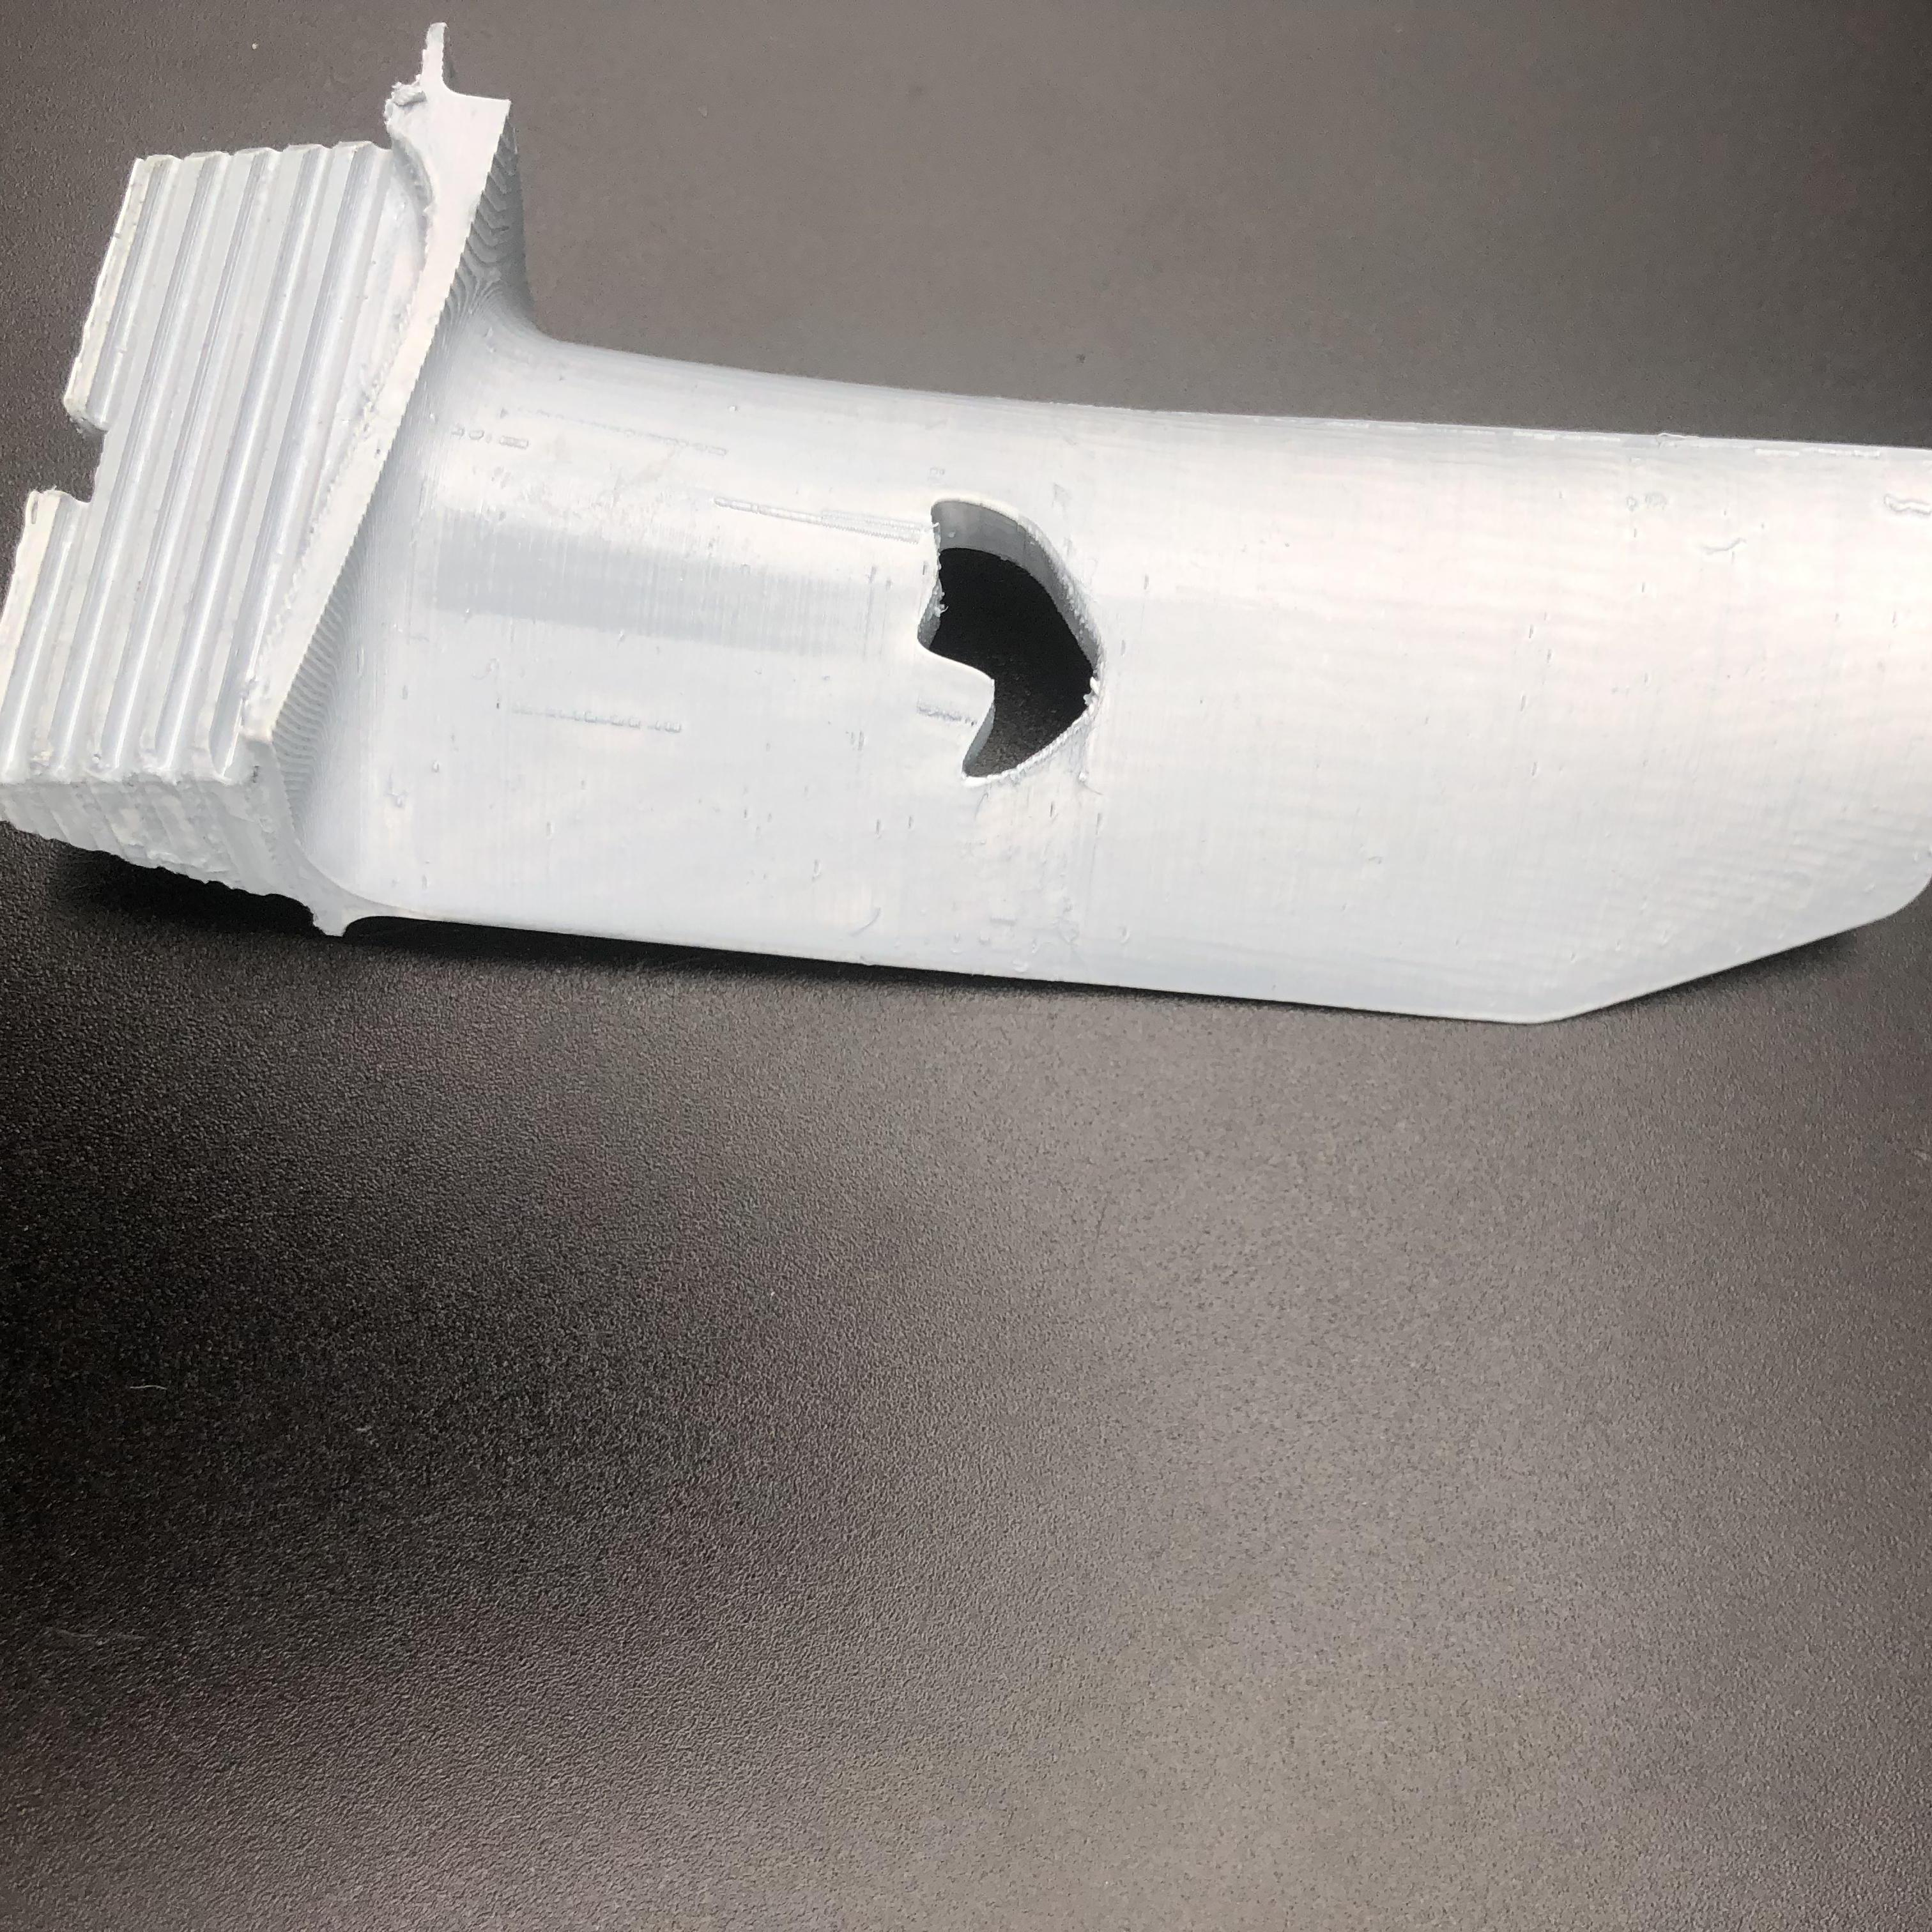breakdown: (909, 492, 1131, 791)
